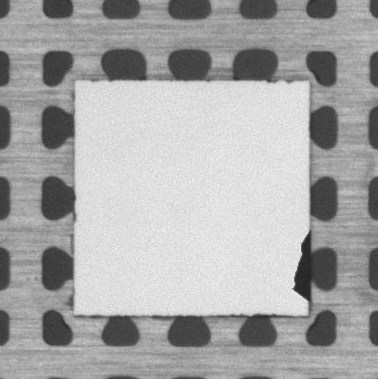DIE_BROKEN: (292, 230, 313, 304)
